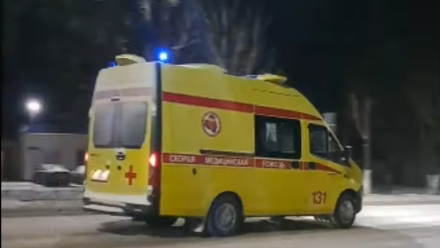intensive care unit: (83, 52, 365, 237)
